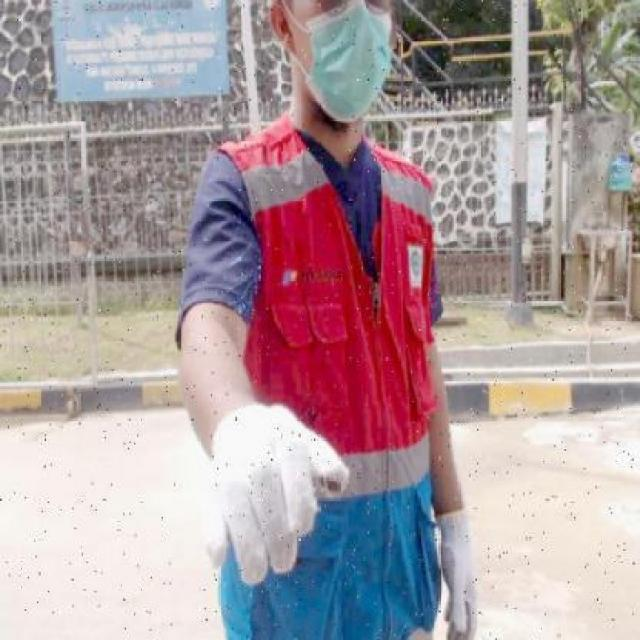Gloves: (184, 403, 348, 582), (438, 497, 491, 638)
Mask: (299, 4, 396, 128)
